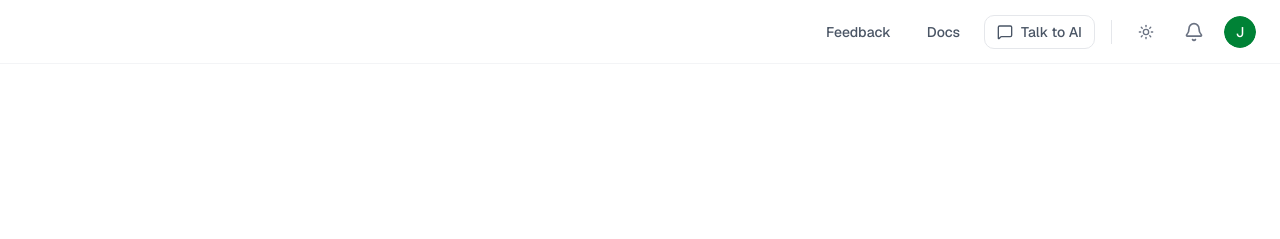
Scenario: DashboardHeader Component › User Display › should display email when name is missing
Click the button "J": [1240, 32] box [1224,16,1256,48]
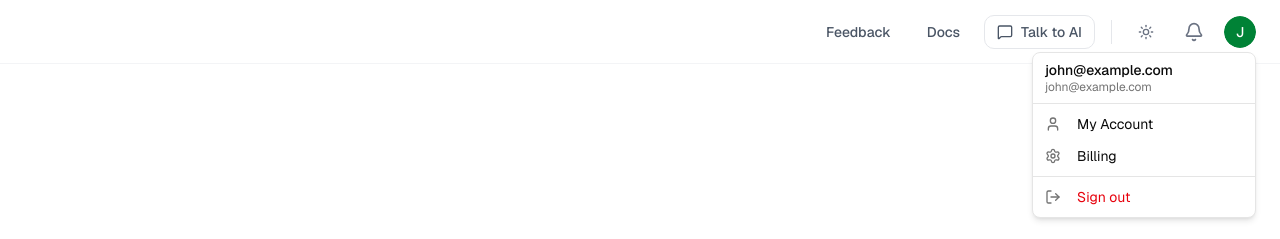
expect the 1st text "john@example.com" is shown: met, box [1045,61,1173,79]
